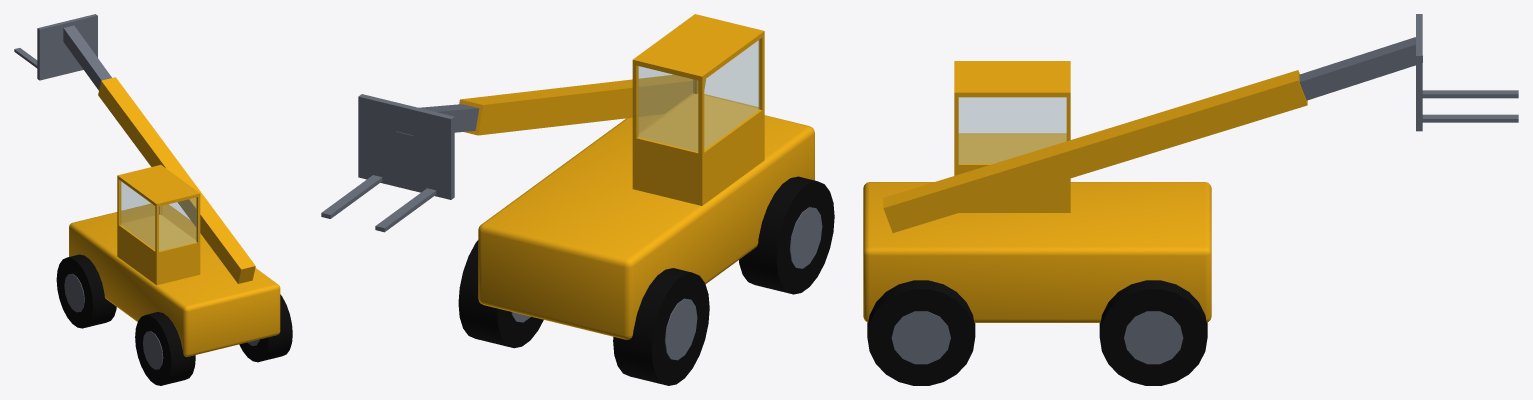
The model's file is plant.lifting.telehandler.glb.
The picture shows the model from 3 angles, left to right: view 1: azimuth 30°, elevation 25°; view 2: azimuth 150°, elevation 25°; view 3: azimuth 270°, elevation 25°; orthographic projection. The views are drawn at different scales.
Visible parts, largest first — view 1: main__plant_yellow, main__rubber, main__steel_painted, main__glass; view 2: main__plant_yellow, main__rubber, main__steel_painted, main__glass; view 3: main__plant_yellow, main__rubber, main__steel_painted, main__glass.
Boxes of the visible parts, bbox=[...] form: main__plant_yellow: bbox=[69, 77, 280, 356]; main__rubber: bbox=[56, 254, 292, 385]; main__steel_painted: bbox=[14, 14, 259, 369]; main__glass: bbox=[120, 181, 196, 250]; main__plant_yellow: bbox=[459, 14, 814, 339]; main__rubber: bbox=[458, 176, 834, 385]; main__steel_painted: bbox=[321, 94, 822, 360]; main__glass: bbox=[638, 40, 759, 151]; main__plant_yellow: bbox=[863, 61, 1307, 322]; main__rubber: bbox=[867, 280, 1207, 385]; main__steel_painted: bbox=[891, 14, 1518, 364]; main__glass: bbox=[959, 97, 1066, 163].
Bounding box in the file's own units: 2.52 × 4.29 × 7.9.
